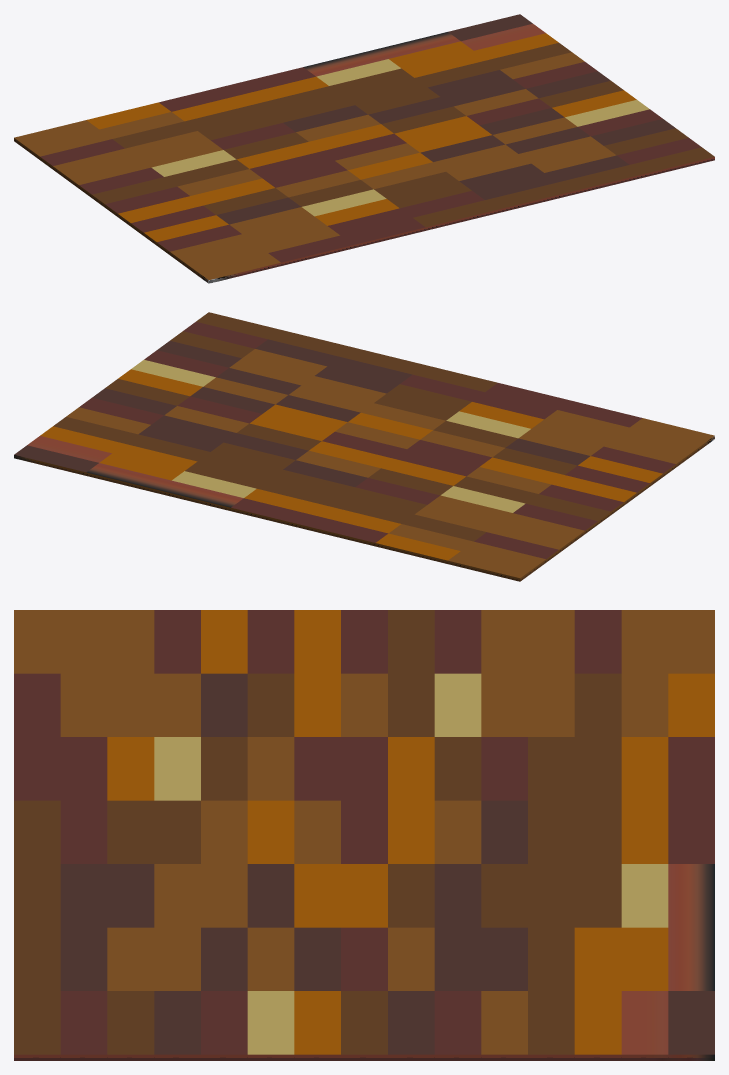
File: pisadas.fbx
3 views of the same model, one above another, from view 1: azimuth 30°, elevation 25°; view 2: azimuth 150°, elevation 25°; view 3: azimuth 270°, elevation 25° (orthographic). The views are drawn at different scales.
Visible parts, largest first — view 1: Cube; view 2: Cube; view 3: Cube.
Part boxes in pixels (box(x1,y1,x2,y2)): Cube: box(14, 14, 714, 283); Cube: box(14, 312, 714, 581); Cube: box(14, 610, 714, 1060).
Size of the model in its own units: 3000 by 20 by 2000.
Materials: 1 (1 with a texture image).
